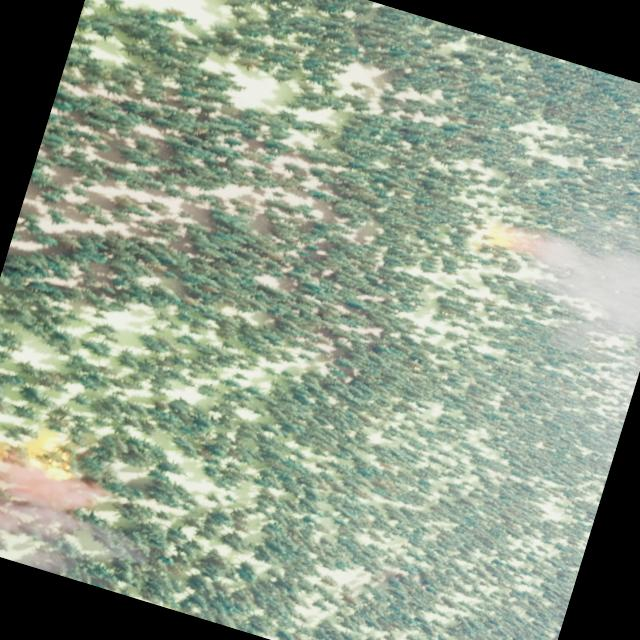fire: (18, 429, 82, 483), (484, 220, 524, 256)
smoke: (504, 204, 640, 368), (0, 438, 107, 580)
